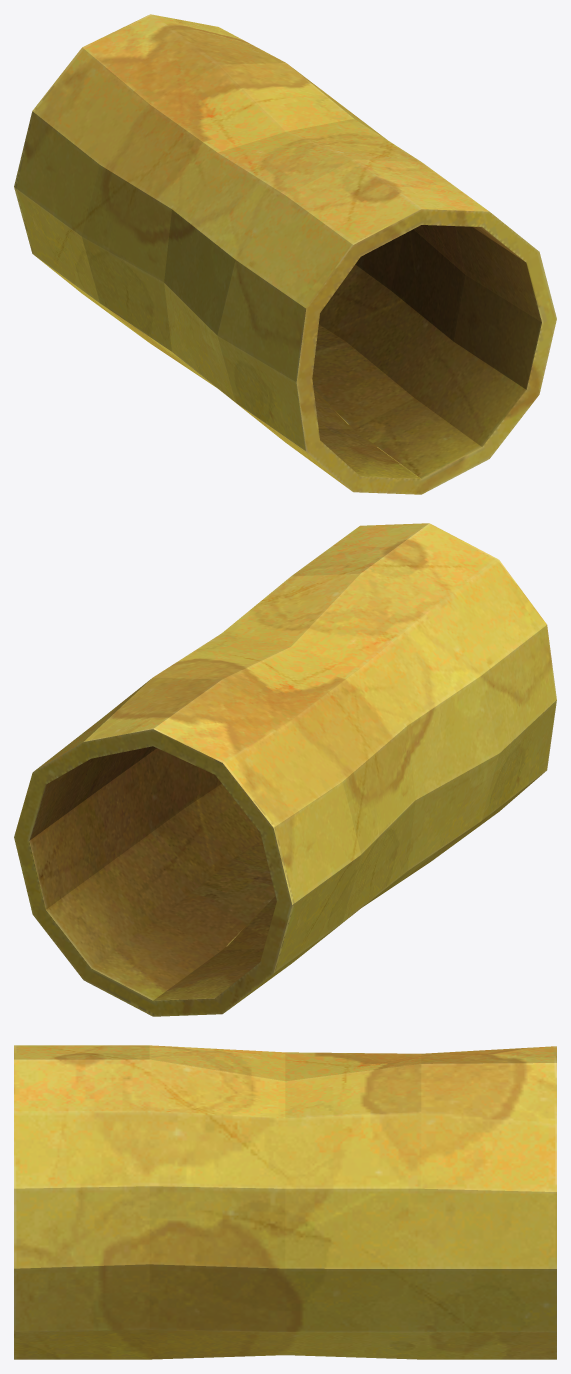
The model's file is GoldPipe.glb.
3 views of the same model, one above another, from view 1: azimuth 30°, elevation 25°; view 2: azimuth 150°, elevation 25°; view 3: azimuth 270°, elevation 25° (orthographic).
Visible parts, largest first — view 1: GoldPipe; view 2: GoldPipe; view 3: GoldPipe.
Boxes of the visible parts, <box> form: GoldPipe: <box>14,14,556,494</box>; GoldPipe: <box>14,523,556,1016</box>; GoldPipe: <box>14,1045,556,1359</box>.
Bounding box in the file's own units: 0.3711 × 0.3711 × 0.6387.
1 material, 1 textured.
